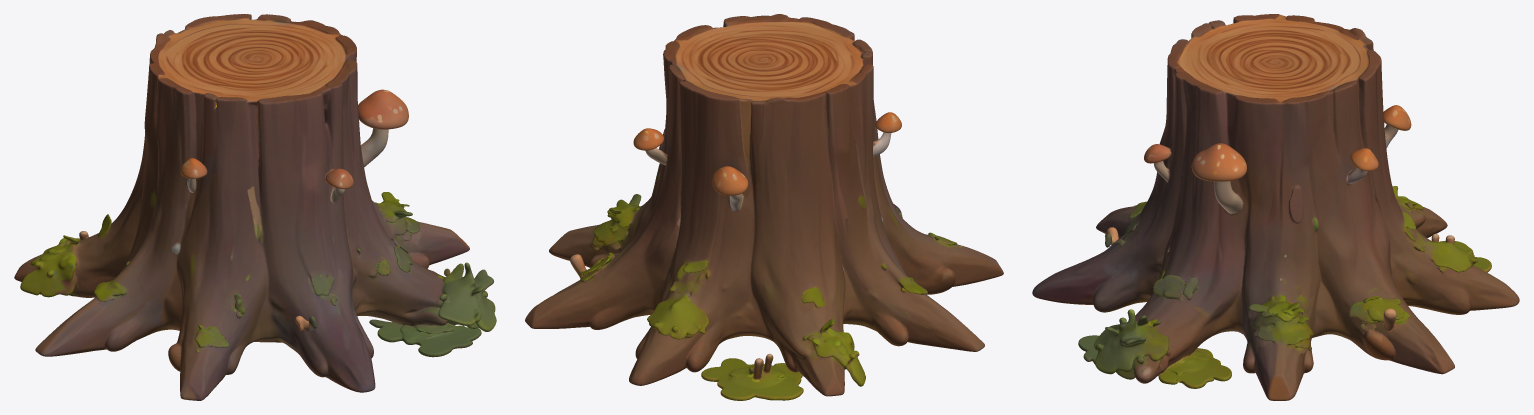
The model's file is tree_stump.glb.
The picture shows the model from 3 angles, left to right: view 1: azimuth 30°, elevation 25°; view 2: azimuth 150°, elevation 25°; view 3: azimuth 270°, elevation 25°; orthographic projection.
Visible parts, largest first — view 1: tripo_node_75e22d1a-955a-4615-83ec-75a2086660fe; view 2: tripo_node_75e22d1a-955a-4615-83ec-75a2086660fe; view 3: tripo_node_75e22d1a-955a-4615-83ec-75a2086660fe.
Boxes of the visible parts, bbox=[...] form: tripo_node_75e22d1a-955a-4615-83ec-75a2086660fe: bbox=[14, 14, 496, 400]; tripo_node_75e22d1a-955a-4615-83ec-75a2086660fe: bbox=[525, 14, 1003, 400]; tripo_node_75e22d1a-955a-4615-83ec-75a2086660fe: bbox=[1032, 14, 1519, 400].
Bounding box in the file's own units: 1 × 0.5611 × 0.9928.
1 material, 1 textured.
